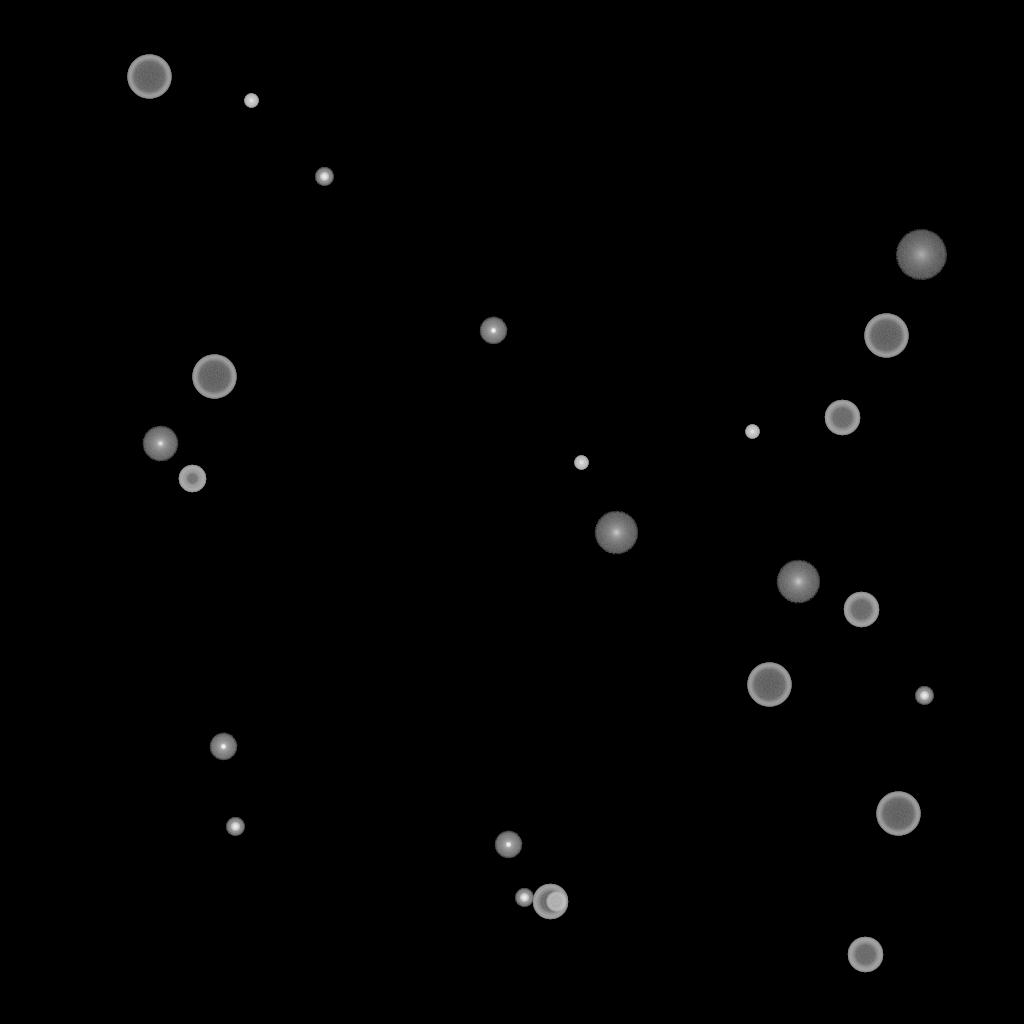depth:-10: (209, 733, 237, 761), (479, 317, 507, 345), (494, 831, 522, 859)
depth:-20: (515, 889, 533, 907), (315, 168, 333, 186), (226, 818, 244, 836), (915, 687, 933, 705)
depth:-30: (574, 456, 588, 470), (745, 425, 759, 439), (244, 94, 258, 108)
depth:-40: (546, 892, 566, 912)
depth:-50: (178, 465, 206, 493)
depth:-60: (847, 937, 883, 973), (824, 400, 860, 436), (532, 884, 568, 920), (843, 592, 879, 628)
depth:-70: (192, 355, 236, 399), (864, 314, 908, 358), (747, 663, 791, 707), (127, 55, 171, 99), (876, 792, 920, 836)
depth:0: (142, 426, 178, 462)
depth:10: (594, 511, 638, 555), (776, 560, 820, 604)
depth:20: (895, 230, 947, 280)
